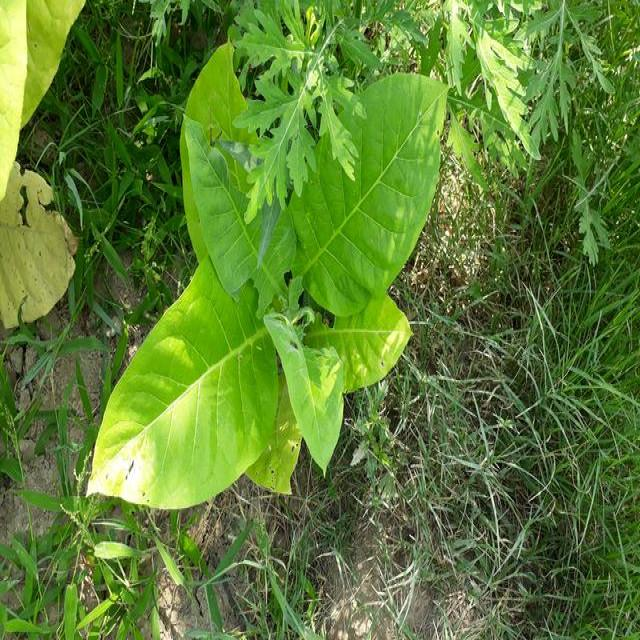crop: (94, 51, 450, 512), (0, 0, 81, 329)
